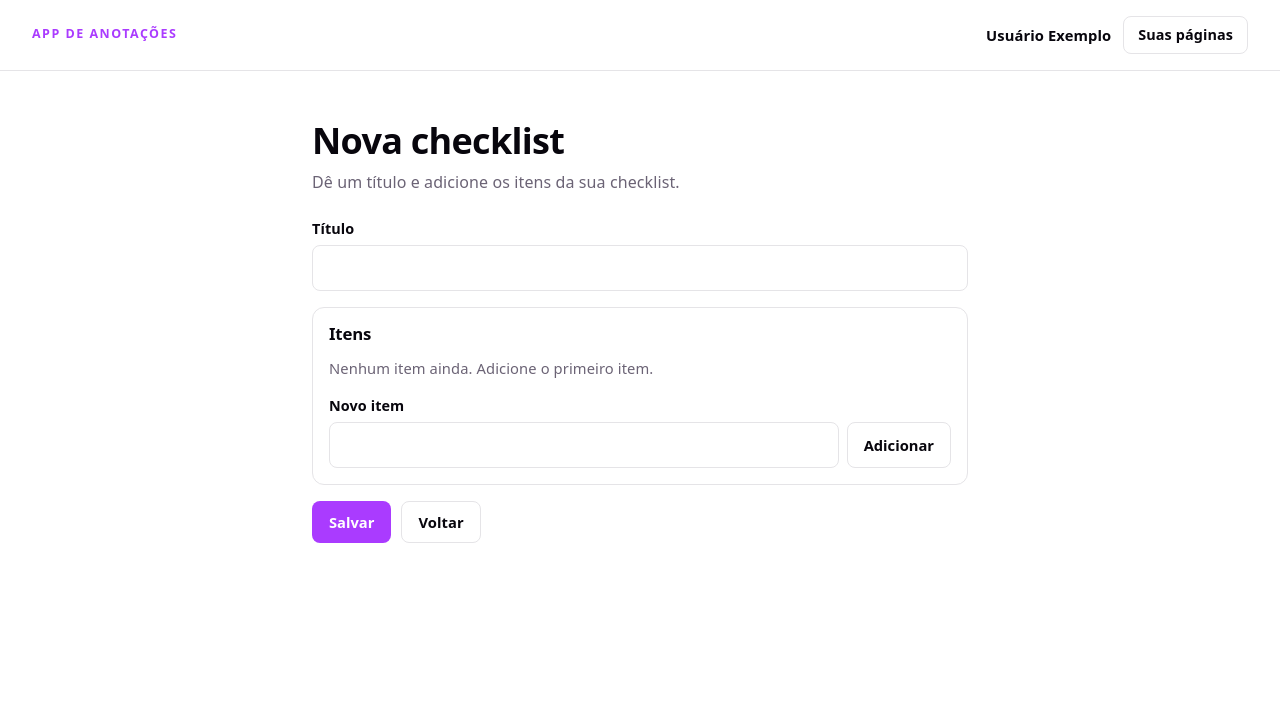
Test: Checklists com itens editáveis › adiciona item como não concluído
Type "Leite" into the field labelled "Novo item" at (584, 445), box [329,422,839,468]
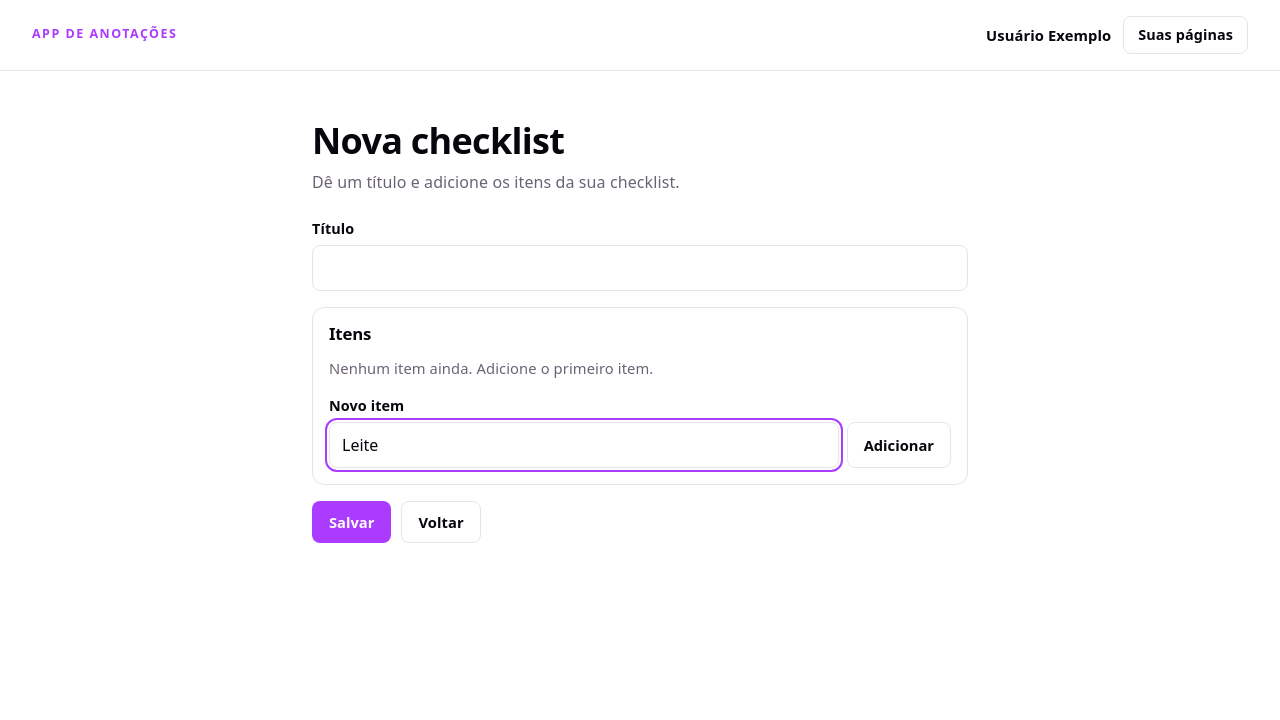
Click the button "Adicionar" at (899, 445), box [847,422,951,468]
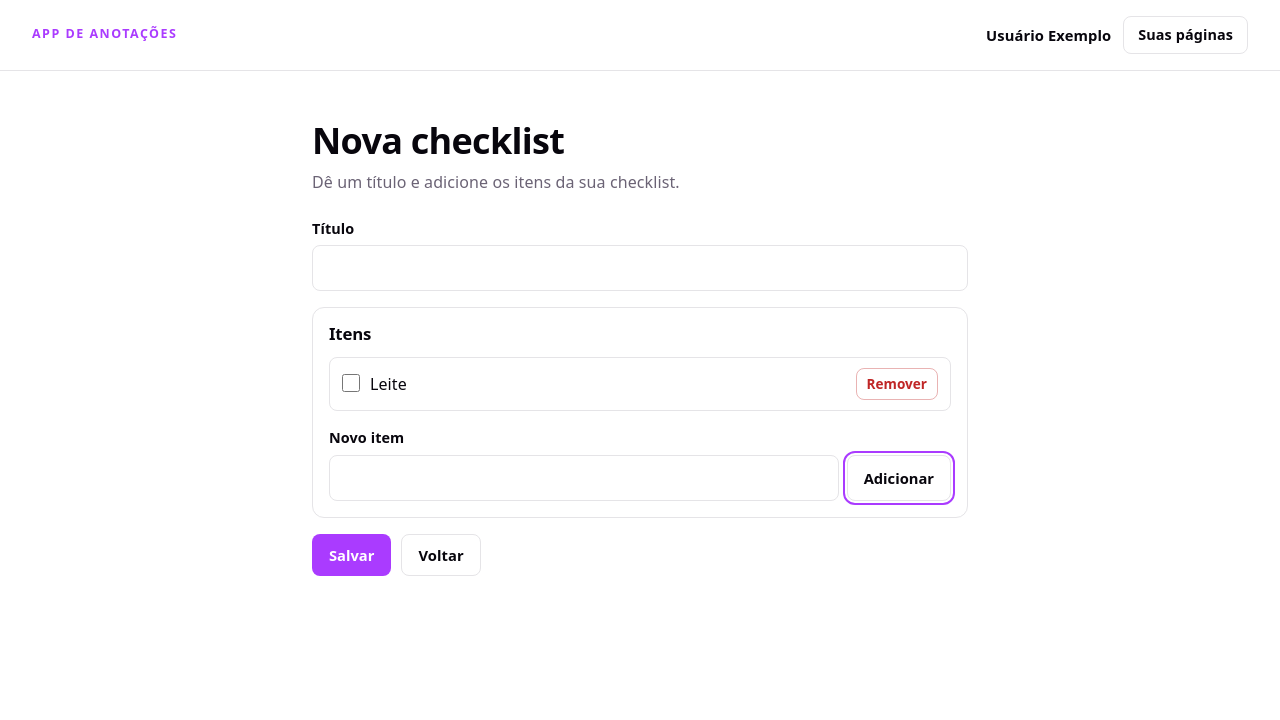
Check: the checkbox labelled "Leite" is not checked, box [342,374,360,392]
Check: the field labelled "Novo item" is empty, box [329,455,839,501]
